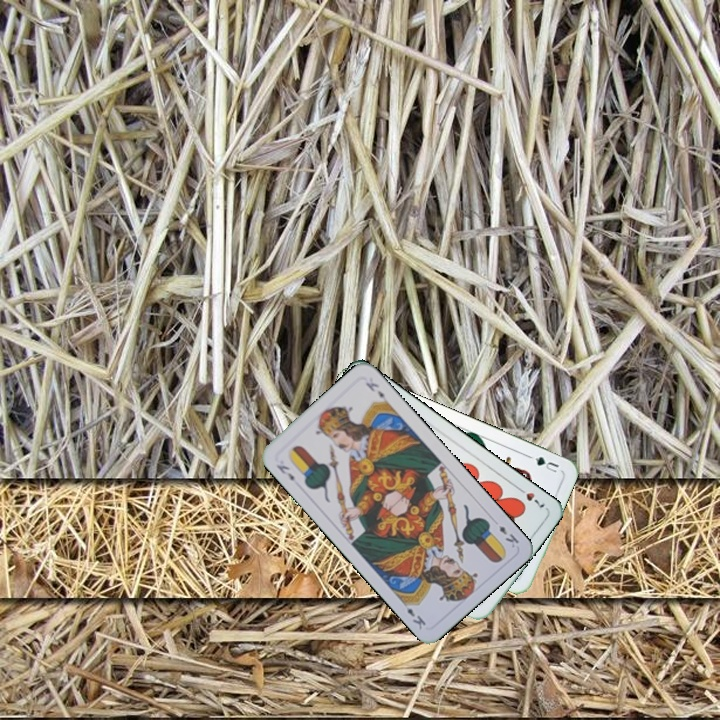EK: (495, 522, 521, 550), (272, 460, 297, 484)
GU: (531, 452, 561, 475)
H7: (513, 483, 549, 513)
